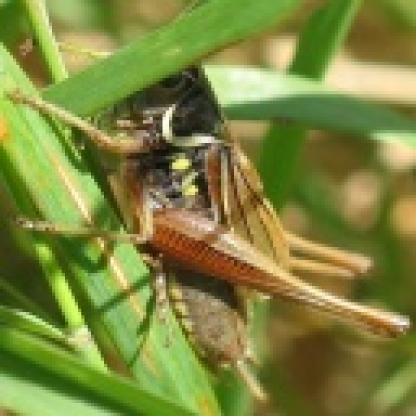grasshopper: (25, 35, 411, 372)
